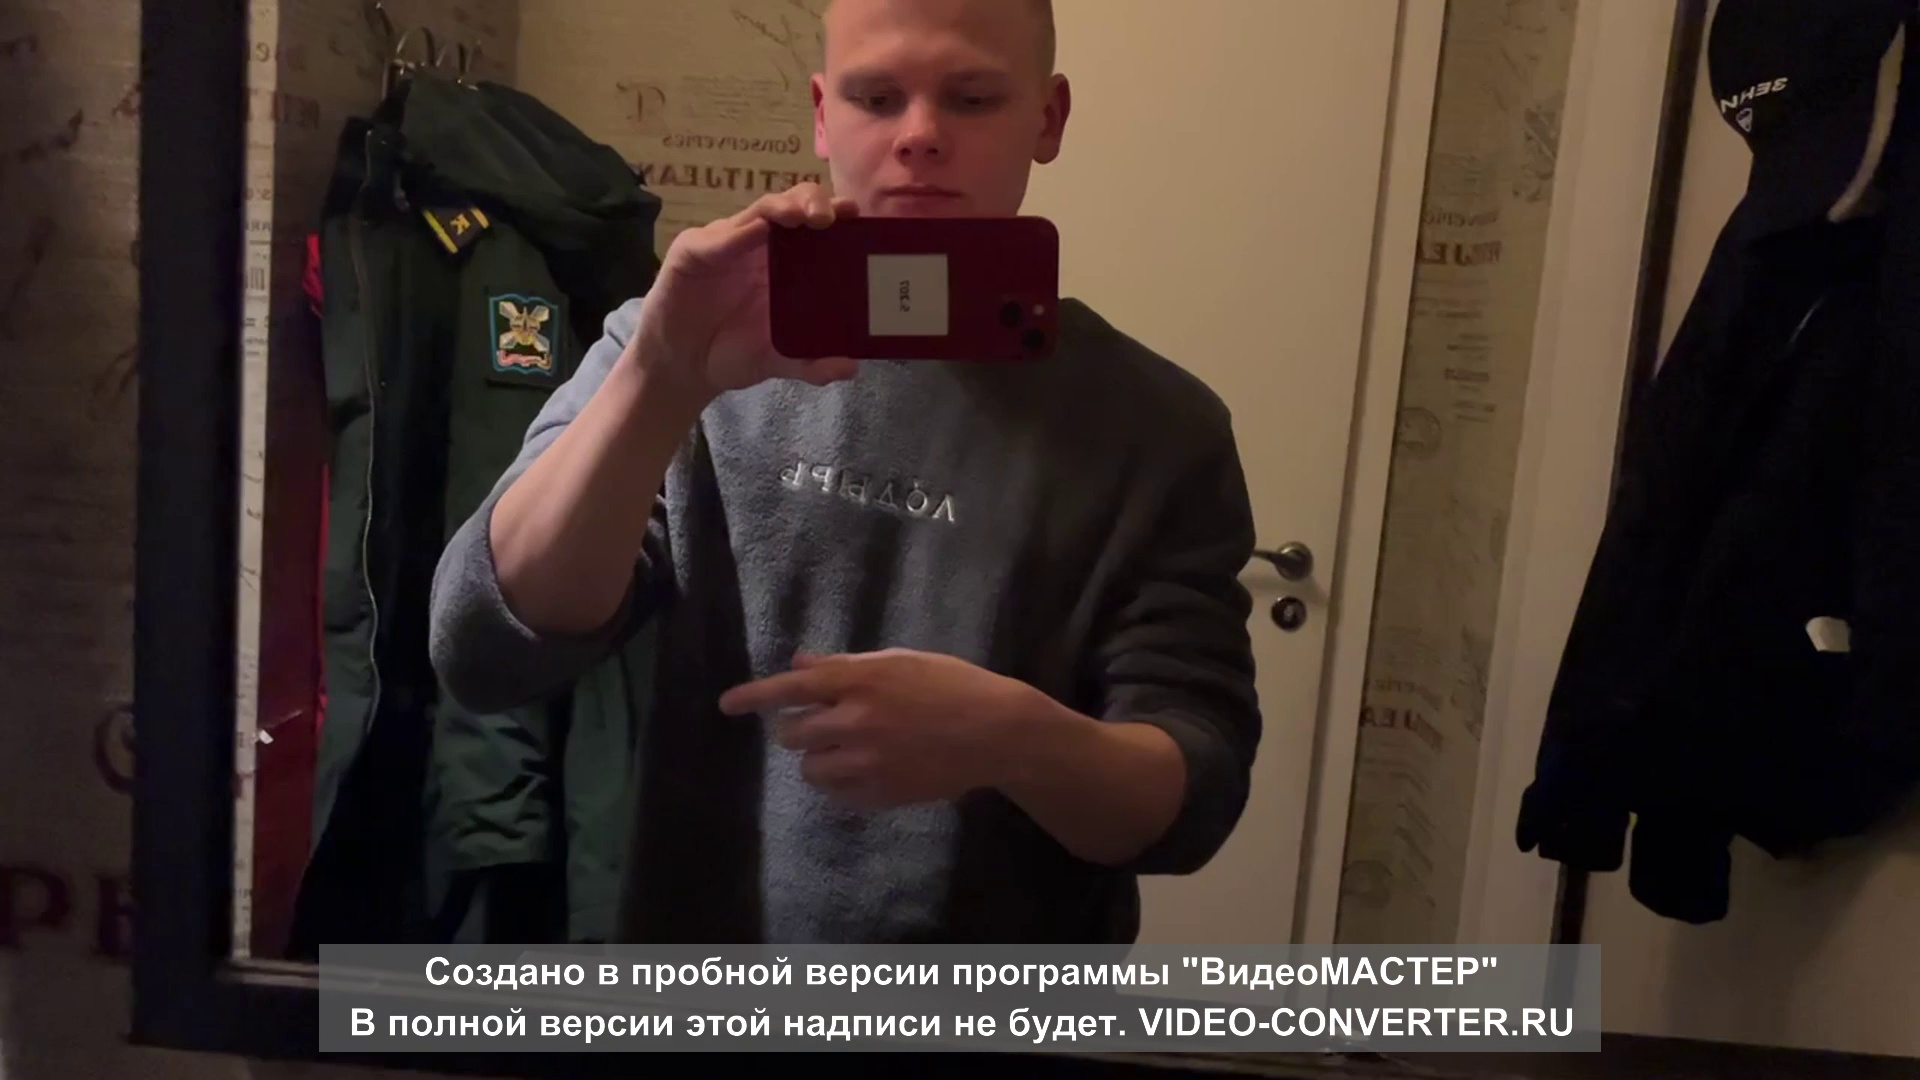Кисть: (720, 638, 1001, 803)
